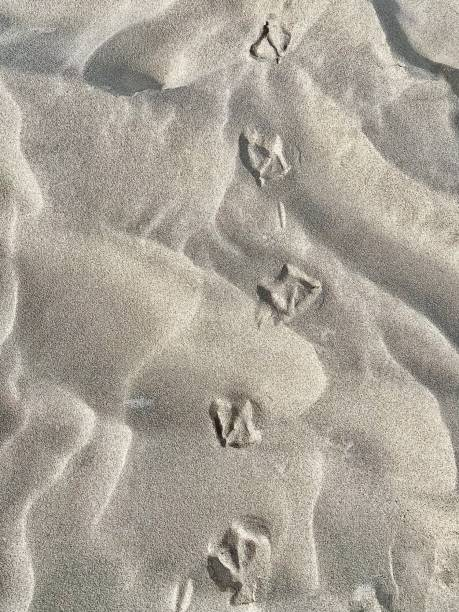animal_foot_print: (207, 517, 270, 605), (257, 264, 321, 322), (240, 127, 290, 186), (209, 399, 261, 447), (250, 16, 290, 62), (349, 584, 382, 611)
